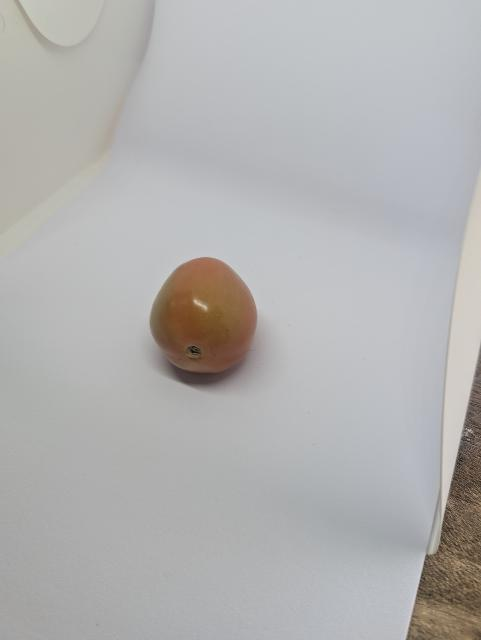turning: (140, 247, 264, 392)
